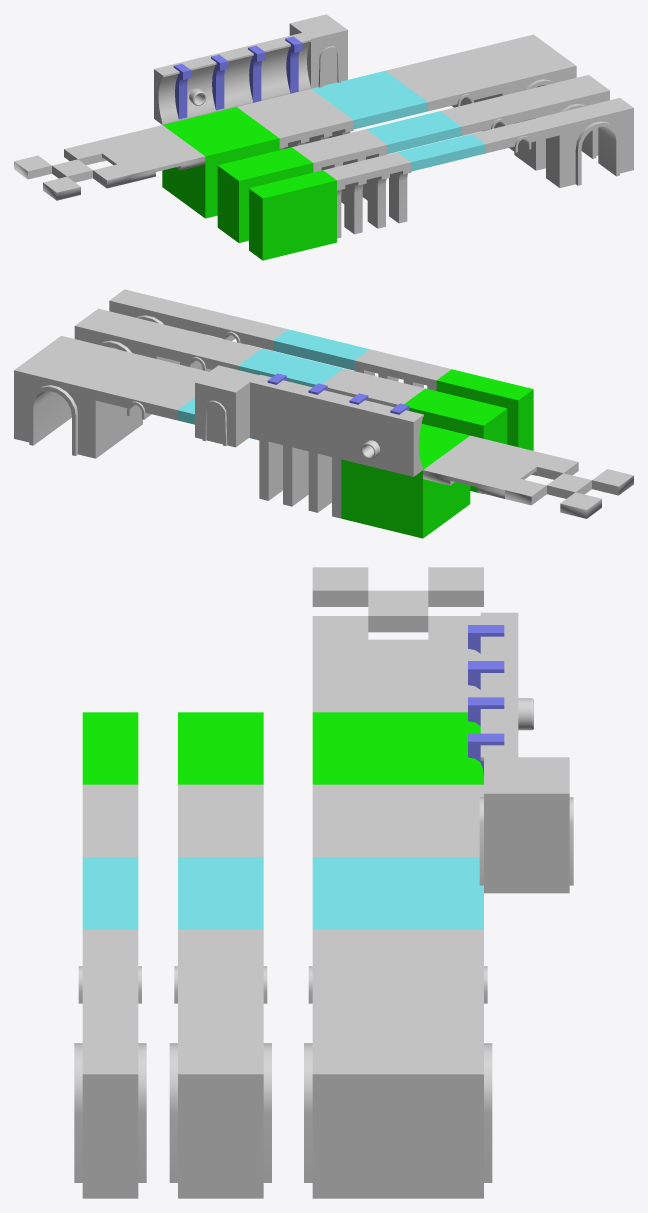
Rendered from PokemonMap.fbx.
The picture shows the model from 3 angles, top to bottom: view 1: azimuth 30°, elevation 25°; view 2: azimuth 150°, elevation 25°; view 3: azimuth 270°, elevation 25°; orthographic projection. The views are drawn at different scales.
Visible parts, largest first — view 1: Box058, Box060, Box035, Box055, Box059, Box033, Box057, Box042, Box054, Box038, Box039, Box036 (+12 smaller); view 2: Box033, Box060, Box039, Box040, Box057, Box038, Box042, Box051, Box037, Box059, Box058, Box036 (+8 smaller); view 3: Box033, Box036, Box035, Box042, Box051, Box054, Box057, Box060, Box038, Box037, Box043, Box053 (+8 smaller).
Boxes of the visible parts, left/top/right/bottom form: Box058: left=249, top=170, right=336, bottom=260; Box060: left=162, top=107, right=279, bottom=218; Box035: left=546, top=98, right=633, bottom=187; Box055: left=323, top=152, right=411, bottom=238; Box059: left=217, top=147, right=313, bottom=242; Box033: left=460, top=34, right=576, bottom=131; Box057: left=237, top=89, right=353, bottom=149; Box042: left=385, top=52, right=502, bottom=111; Box054: left=311, top=71, right=427, bottom=129; Box038: left=88, top=125, right=205, bottom=182; Box039: left=154, top=51, right=237, bottom=124; Box036: left=514, top=75, right=609, bottom=170; Box033: left=14, top=335, right=142, bottom=458; Box060: left=341, top=424, right=470, bottom=538; Box039: left=332, top=394, right=423, bottom=476; Box040: left=250, top=374, right=341, bottom=456; Box057: left=259, top=439, right=341, bottom=518; Box038: left=423, top=435, right=551, bottom=498; Box042: left=95, top=355, right=208, bottom=420; Box051: left=195, top=365, right=258, bottom=447; Box037: left=505, top=455, right=633, bottom=518; Box059: left=404, top=388, right=507, bottom=493; Box058: left=436, top=369, right=533, bottom=450; Box036: left=74, top=308, right=179, bottom=364; Box033: left=304, top=1002, right=492, bottom=1198; Box036: left=169, top=1002, right=271, bottom=1198; Box035: left=74, top=1002, right=146, bottom=1198; Box042: left=308, top=929, right=487, bottom=1003; Box051: left=479, top=757, right=573, bottom=893; Box054: left=312, top=857, right=483, bottom=929; Box057: left=312, top=784, right=483, bottom=856; Box060: left=312, top=712, right=483, bottom=784; Box038: left=312, top=639, right=480, bottom=712; Box037: left=312, top=567, right=483, bottom=639; Box043: left=174, top=929, right=267, bottom=1003; Box053: left=178, top=857, right=263, bottom=929.
Size of the model in its own units: 17500 by 3663 by 7285.
